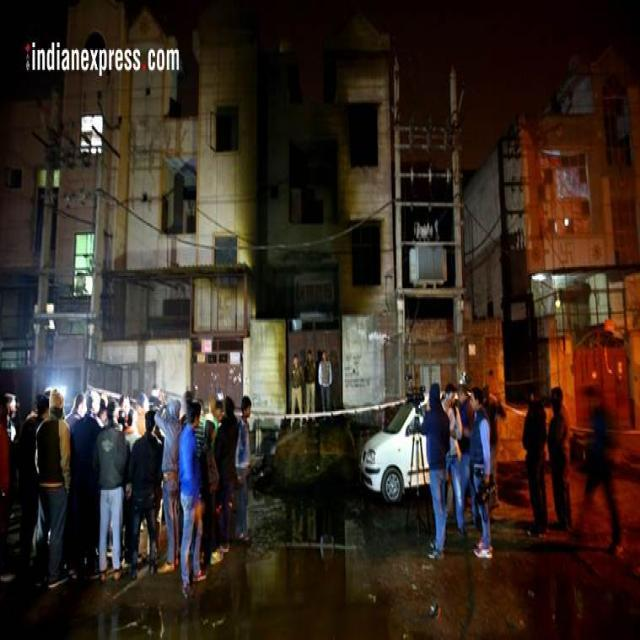Smoke: (186, 0, 402, 332)
